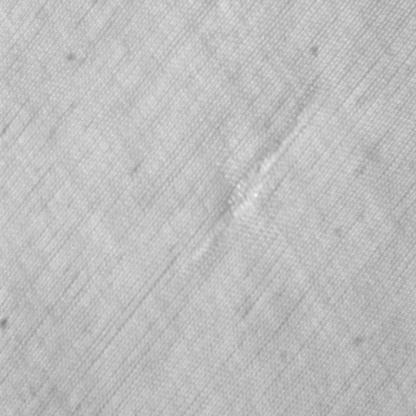thread error: (218, 124, 296, 236)
